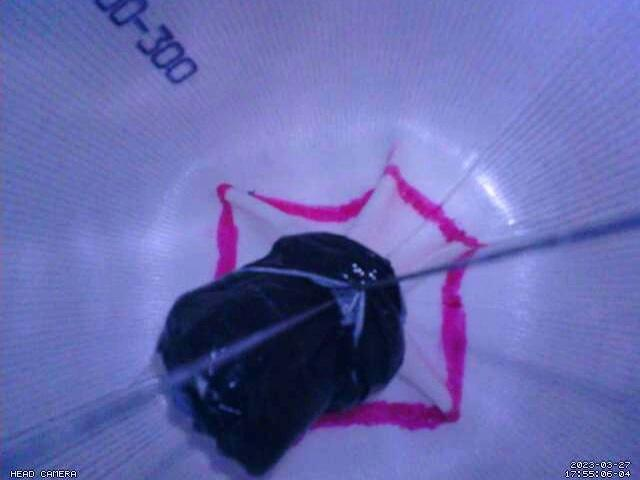red-circle: (215, 162, 480, 431)
